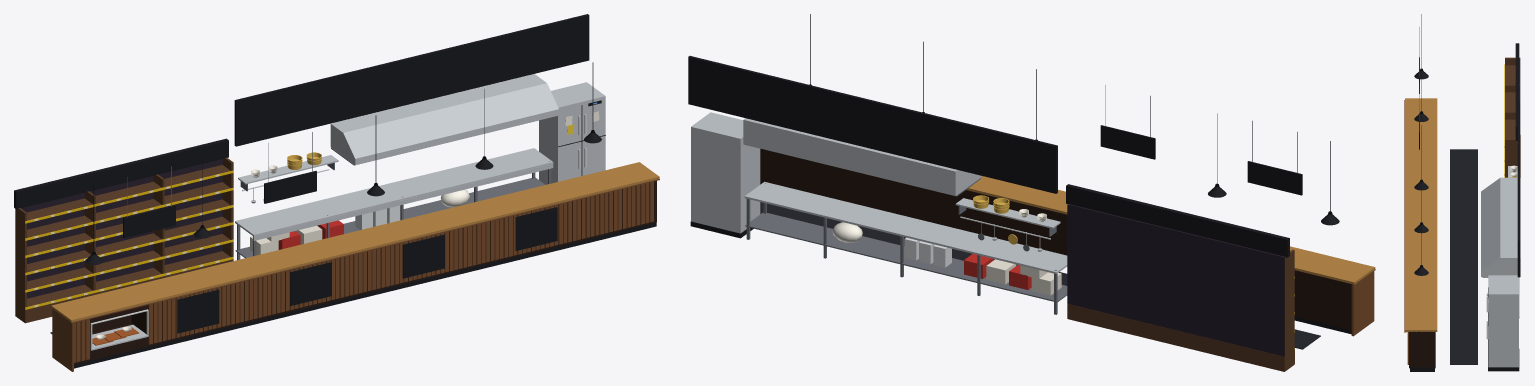
Rendered from food-corner-fittings.glb.
3 views of the same model, side by side, from view 1: azimuth 30°, elevation 25°; view 2: azimuth 150°, elevation 25°; view 3: azimuth 270°, elevation 25° (orthographic). The views are drawn at different scales.
Visible parts, largest first — view 1: black172, woodTop16, steel62, peg111, steel25, steel48, black141, carcass1, black0, shelf117, shelf133, shelf137 (+24 smaller); view 2: peg111, black172, carcass1, steel48, steel25, steel62, black141, steelDark27, shelf116, woodTop16, rubber23, shelf112 (+4 smaller); view 3: woodTop16, rubber23, steel62, steel48, carcass1, black172, shelf137, black141, shelf115, slat17, black49, black0.
Boxes of the visible parts, x1,y1,x2,y2 form: black172: (234, 14, 589, 146); woodTop16: (51, 162, 659, 322); steel62: (330, 74, 558, 165); peg111: (21, 159, 222, 298); steel25: (235, 148, 553, 236); steel48: (539, 82, 605, 184); black141: (14, 138, 228, 209); carcass1: (74, 181, 656, 364); black0: (74, 222, 656, 368); shelf117: (27, 251, 230, 306); shelf133: (27, 182, 230, 237); shelf137: (27, 165, 230, 220); peg111: (1067, 204, 1284, 356); black172: (688, 56, 1057, 193); carcass1: (760, 148, 1351, 329); steel48: (691, 112, 760, 233); steel25: (744, 181, 1067, 273); steel62: (743, 118, 981, 195); black141: (1066, 184, 1289, 257); steelDark27: (745, 212, 1067, 302); shelf116: (1067, 304, 1294, 371); woodTop16: (966, 176, 1375, 284); rubber23: (760, 202, 1320, 349); shelf112: (1284, 249, 1294, 371); woodTop16: (1405, 98, 1437, 331); rubber23: (1450, 149, 1477, 364); steel62: (1481, 177, 1520, 276); steel48: (1488, 275, 1518, 367); carcass1: (1409, 331, 1435, 368); black172: (1517, 101, 1520, 277); shelf137: (1505, 65, 1515, 138); black141: (1515, 43, 1519, 140); shelf115: (1505, 139, 1517, 177); slat17: (1404, 100, 1405, 332); black49: (1488, 349, 1519, 371); black0: (1410, 367, 1434, 371).
Size of the model in its own units: 13.56 by 3.8 by 2.88.
